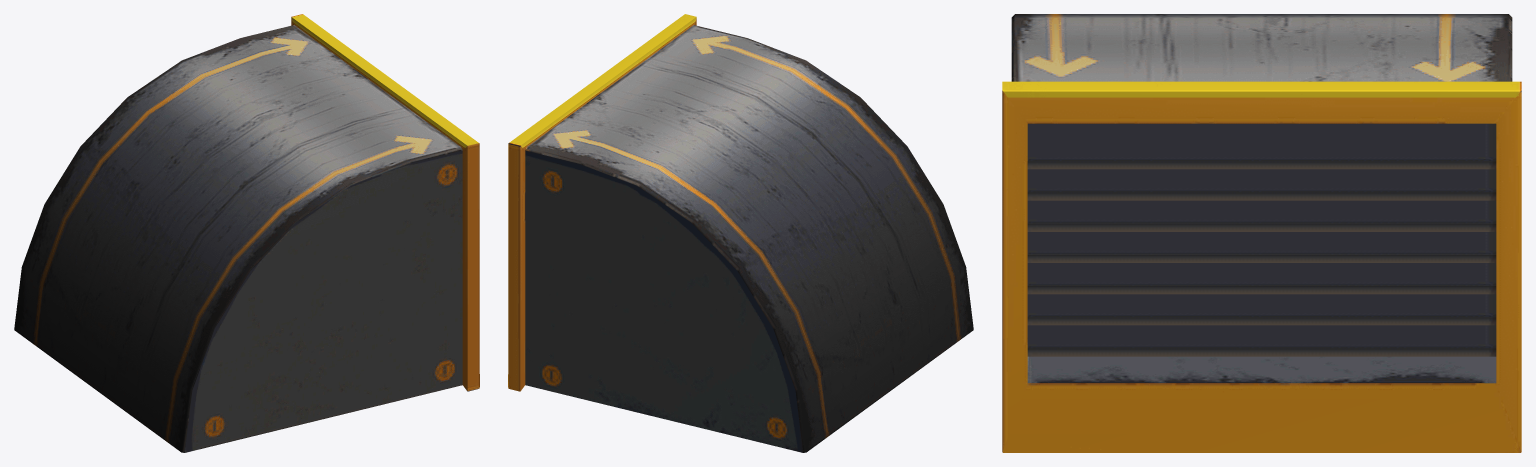
File: blower.glb
3 renders of one model, left to right at view 1: azimuth 30°, elevation 25°; view 2: azimuth 150°, elevation 25°; view 3: azimuth 270°, elevation 25°, orthographic. The views are drawn at different scales.
Parts seen in each view (by area): view 1: s_wind_device; view 2: s_wind_device; view 3: s_wind_device.
Part boxes in pixels (x1,y1,x2,y2): s_wind_device: [14, 14, 479, 452]; s_wind_device: [508, 14, 973, 452]; s_wind_device: [1002, 14, 1521, 452].
Size of the model in its own units: 0.7681 by 0.6136 by 0.7975.
Materials: 1 (1 with a texture image).
